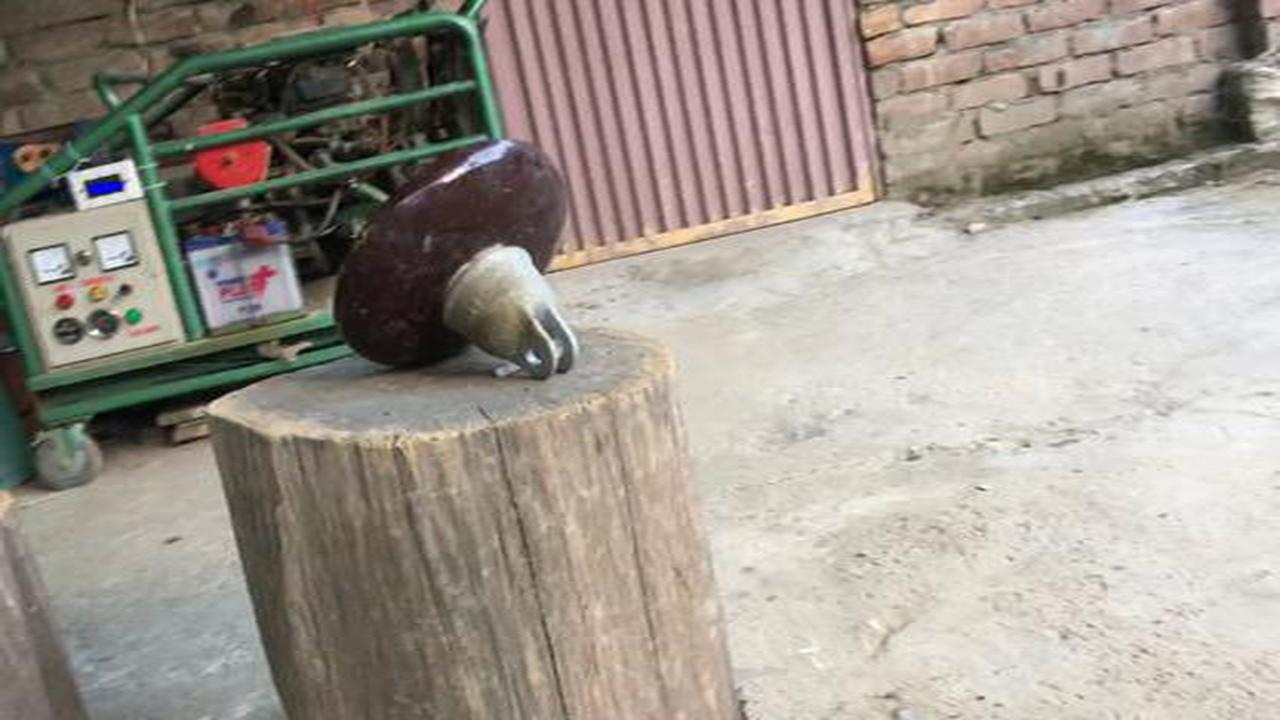insulator_disc: (333, 131, 582, 382)
